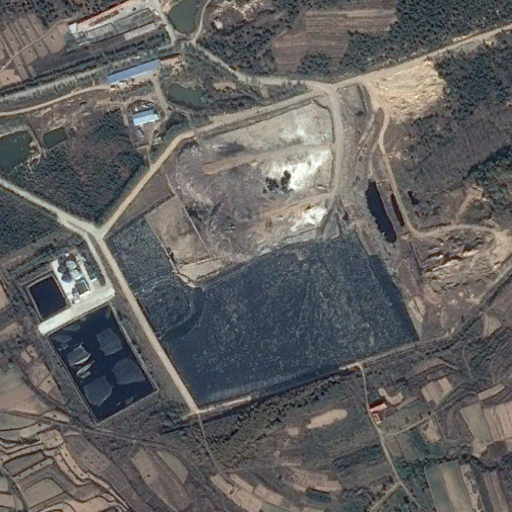lf: (109, 194, 418, 405)
